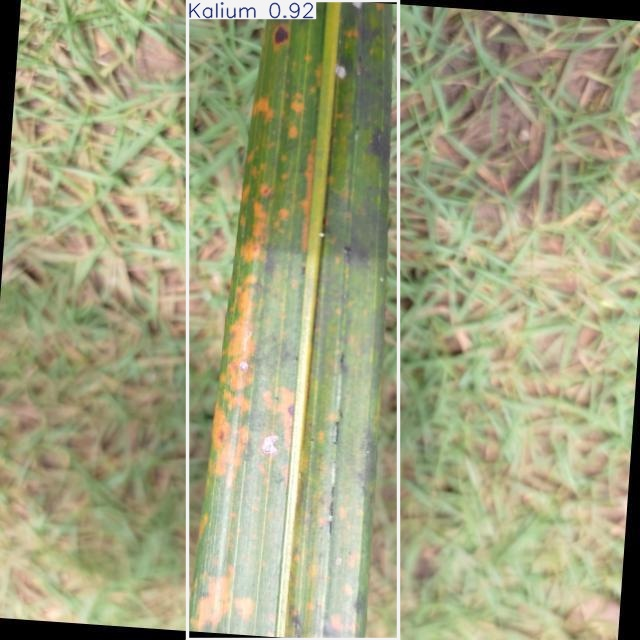Kalium: (187, 0, 398, 639)
